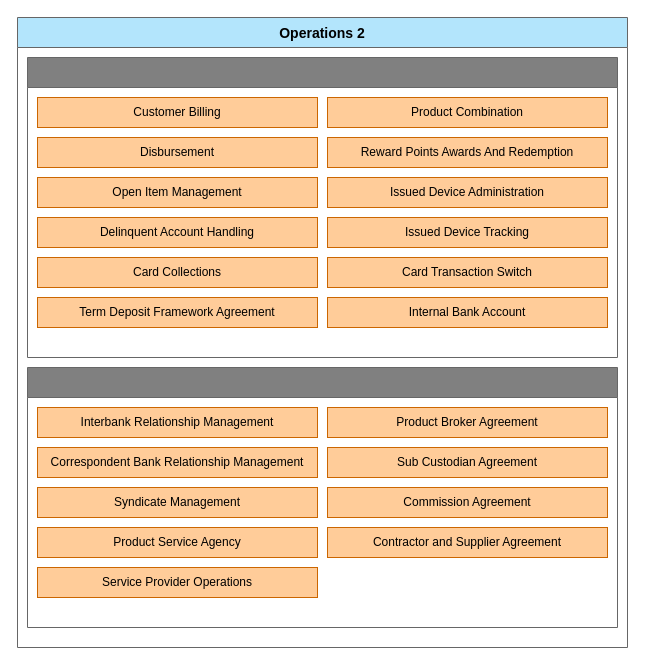
This 645x665 diagram has some shape labels left out. Here are the shapes that lost their labels. From the top down, the box of each, then its label:
(26, 56, 618, 358): Operational Services
(26, 366, 618, 628): External Agency
